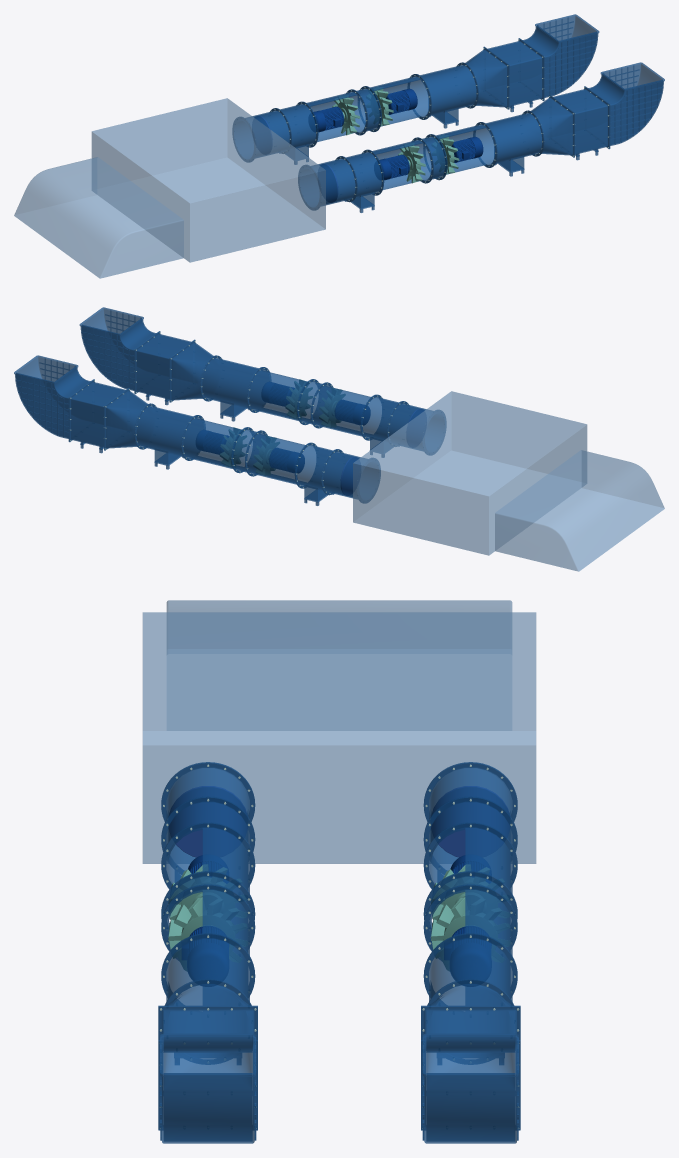
Rendered from fengjidonghua.FBX.
3 views of the same model, one above another, from view 1: azimuth 30°, elevation 25°; view 2: azimuth 150°, elevation 25°; view 3: azimuth 270°, elevation 25° (orthographic). The views are drawn at different scales.
Visible parts, largest first — view 1: Box159, Line2957, 对象112, 对象094, 对象122, 对象124, 对象123, 对象111, 对象100, 对象113, Cylinder225, 对象125; view 2: Line2957, Box159, 对象094, 对象112, 对象124, 对象122, 对象123, 对象111, 对象100, 对象113, Cylinder225, 对象121; view 3: Box159, Line2957, 对象121, 对象125, 对象124, 对象122, 对象113, 对象100, 对象123, 对象111, Cylinder225.
Boxes of the visible parts, x1,y1,x2,y2 form: Box159: (14, 98, 325, 278); Line2957: (232, 14, 664, 210); 对象112: (308, 106, 344, 132); 对象094: (374, 154, 409, 180); 对象122: (366, 87, 393, 126); 对象124: (432, 135, 459, 174); 对象123: (398, 143, 425, 183); 对象111: (332, 95, 360, 135); 对象100: (451, 136, 483, 162); 对象113: (386, 88, 417, 114); Cylinder225: (270, 39, 609, 200); 对象125: (321, 163, 338, 202); Line2957: (14, 307, 446, 503); Box159: (353, 391, 664, 571); 对象094: (335, 400, 370, 425); 对象112: (269, 448, 304, 472); 对象124: (285, 379, 312, 419); 对象122: (220, 427, 246, 466); 对象123: (319, 387, 345, 427); 对象111: (253, 435, 279, 475); 对象100: (261, 382, 294, 406); 对象113: (196, 430, 228, 454); Cylinder225: (69, 332, 408, 493); 对象121: (340, 456, 357, 495); Box159: (142, 600, 536, 863); Line2957: (158, 762, 520, 1143); 对象121: (431, 786, 509, 857); 对象125: (169, 786, 247, 857); 对象124: (168, 897, 247, 970); 对象122: (431, 897, 510, 970); 对象113: (444, 926, 491, 986); 对象100: (182, 926, 228, 986); 对象123: (169, 864, 246, 933); 对象111: (431, 864, 509, 933); Cylinder225: (159, 764, 519, 1128).
Bounding box in the file's own units: 4168 × 443 × 1260.
Materials: 6 (2 with a texture image).
